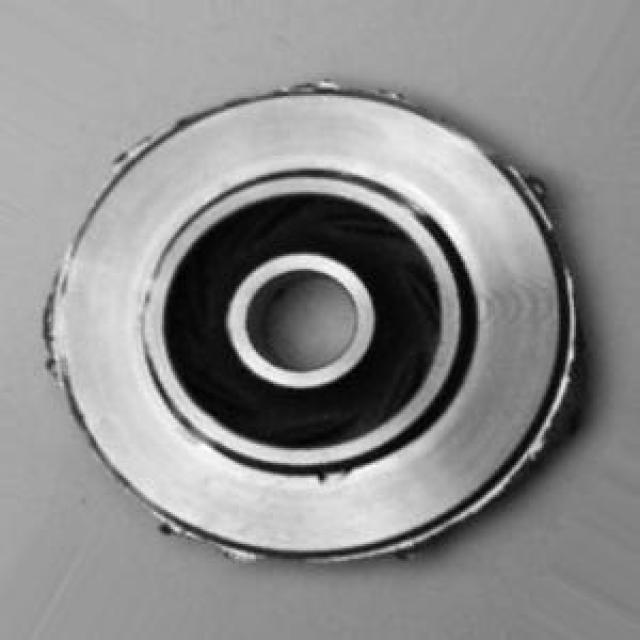Defect: (537, 376, 587, 436), (298, 67, 348, 103), (525, 182, 553, 221)
